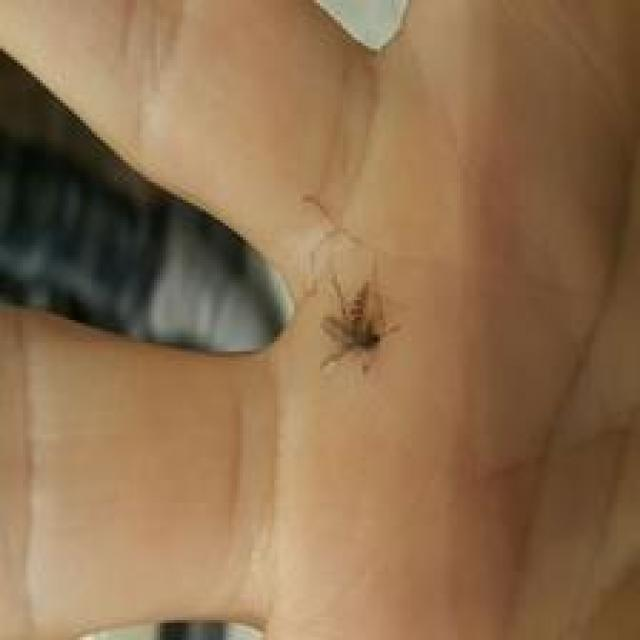Culex: (316, 270, 401, 376)
